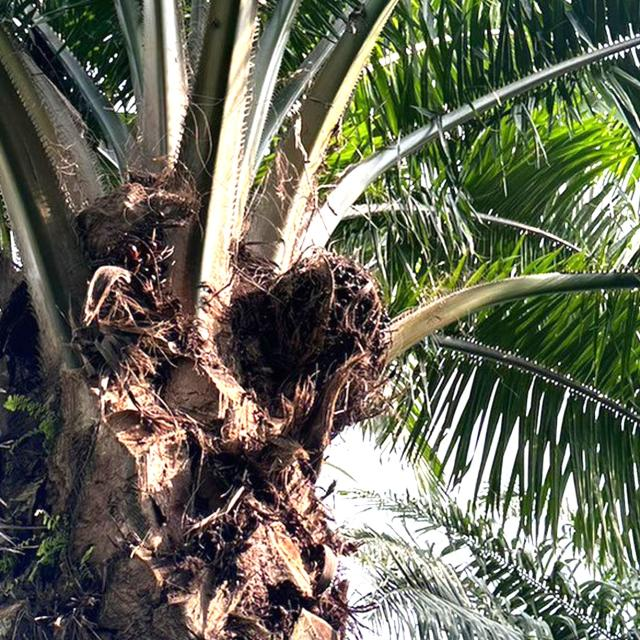unripe: (216, 248, 406, 420), (66, 216, 192, 371)
